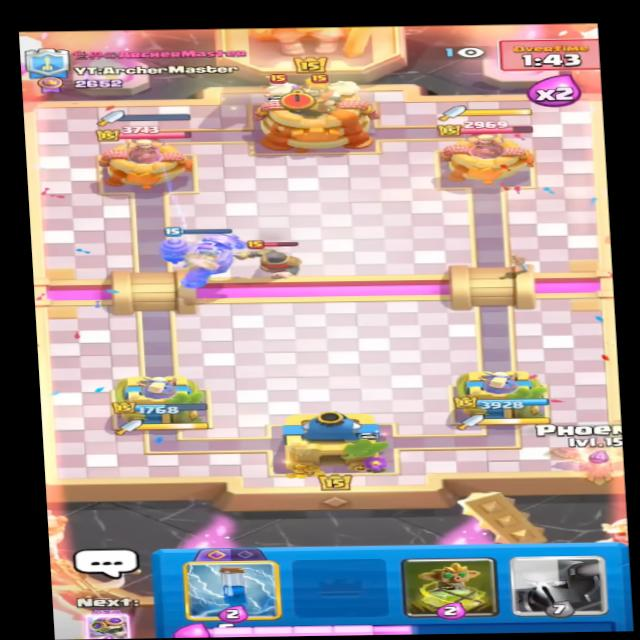Knight: (239, 235, 312, 278)
